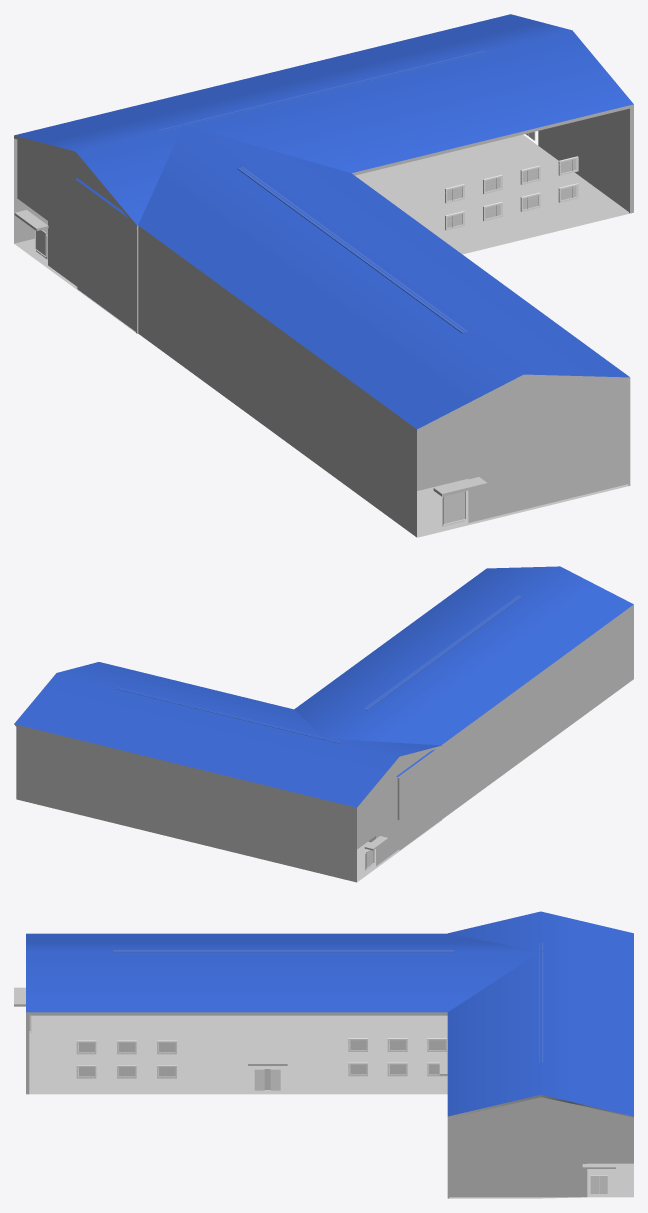
The model's file is fang11.dae.
3 views of the same model, one above another, from view 1: azimuth 30°, elevation 25°; view 2: azimuth 150°, elevation 25°; view 3: azimuth 270°, elevation 25° (orthographic). The views are drawn at different scales.
Parts seen in each view (by area): view 1: 立方体.1 (×4); view 2: 立方体.1 (×4); view 3: 立方体.1 (×3).
Boxes of the visible parts, bbox=[...] form: 立方体.1 (×4): bbox=[14, 14, 633, 537]; 立方体.1 (×4): bbox=[14, 566, 633, 882]; 立方体.1 (×3): bbox=[26, 911, 633, 1198].
Bounding box in the file's own units: 0.00864 × 0.0022 × 0.0119.
